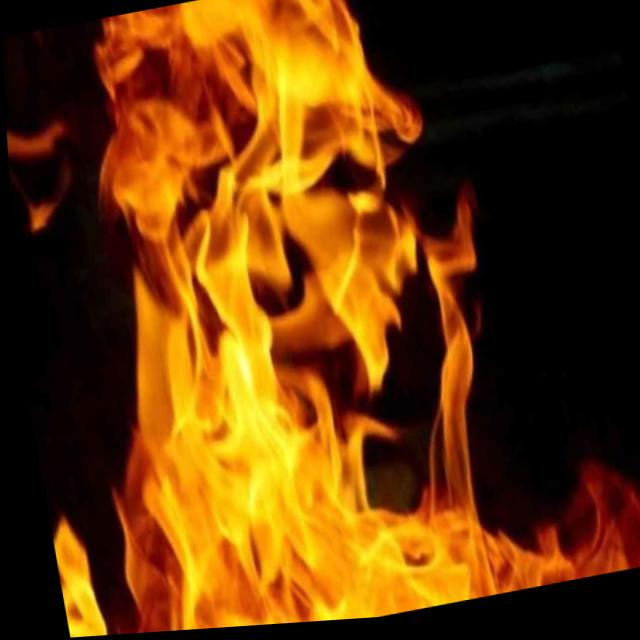fire: (27, 0, 640, 639), (40, 488, 115, 639)
